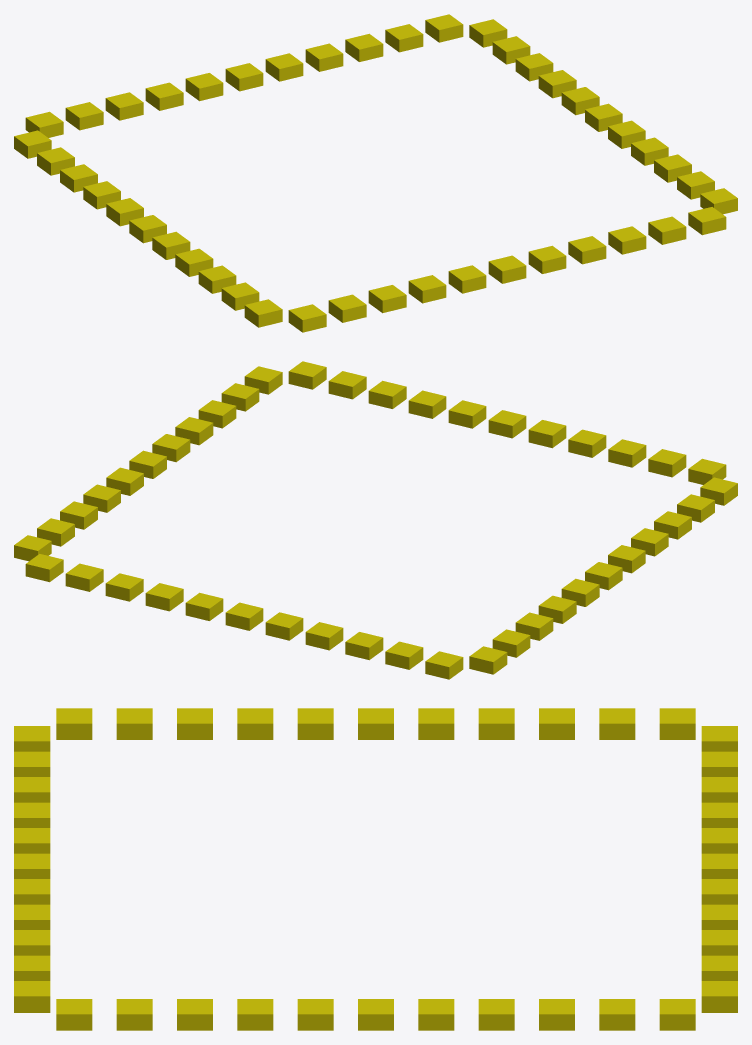
The model's file is pins.dae.
3 renders of one model, top to bottom at view 1: azimuth 30°, elevation 25°; view 2: azimuth 150°, elevation 25°; view 3: azimuth 270°, elevation 25°, orthographic. The views are drawn at different scales.
Visible parts, largest first — view 1: Cube_001; view 2: Cube_001; view 3: Cube_001.
Part boxes in pixels (x1,y1,x2,y2): Cube_001: (14, 14, 737, 332); Cube_001: (14, 361, 737, 679); Cube_001: (14, 708, 737, 1030).
Bounding box in the file's own units: 12 × 12 × 0.3.
